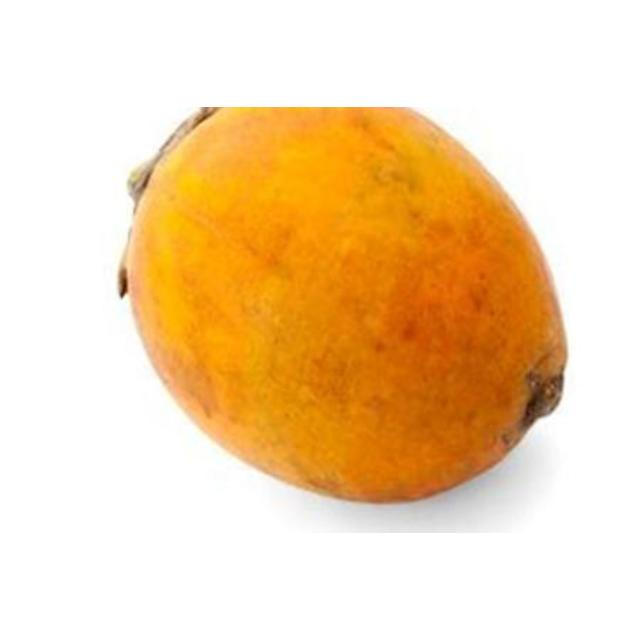good: (121, 107, 569, 507)
